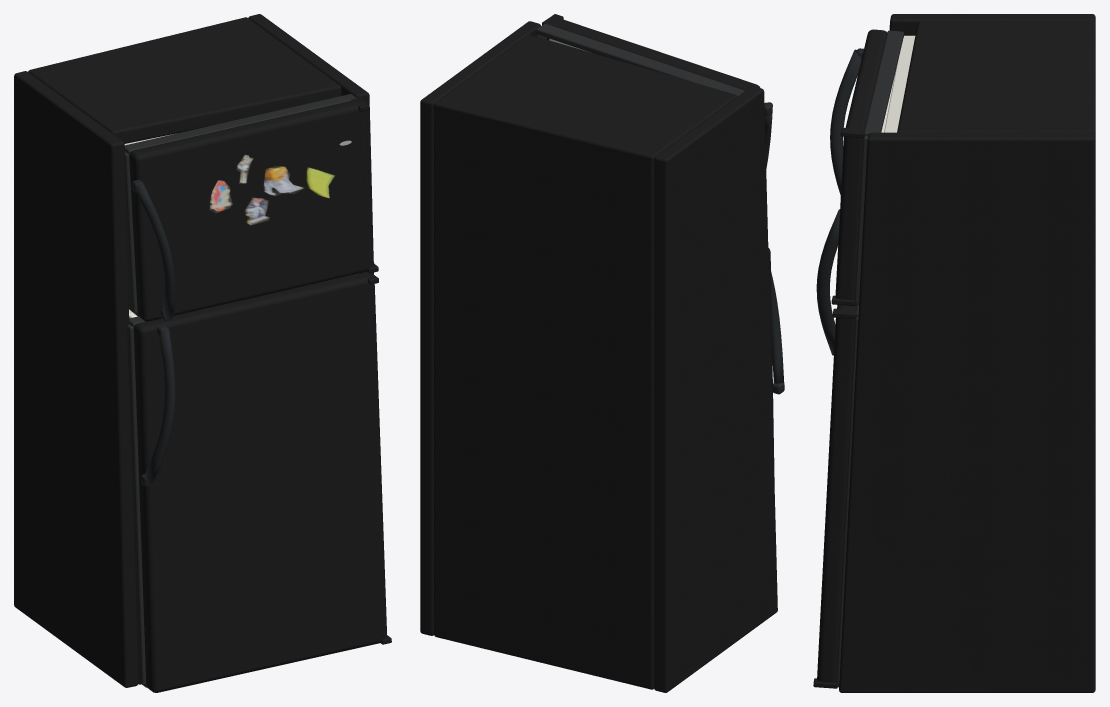
The picture shows the model from 3 angles, left to right: view 1: azimuth 30°, elevation 25°; view 2: azimuth 150°, elevation 25°; view 3: azimuth 270°, elevation 25°; orthographic projection. The views are drawn at different scales.
Visible parts, largest first — view 1: main_outer_skin, shell_left, freezer_outer_skin, shell_top, magnet_decals, main_gasket_side, shell_right, freezer_gasket_cross.001, main_bow_handle, freezer_bow_handle, shell_back, freezer_gasket_side; view 2: shell_back, shell_left, shell_top, shell_right, freezer_gasket_cross.001, freezer_outer_skin, main_bow_handle; view 3: shell_right, shell_top, main_outer_skin, freezer_outer_skin, freezer_gasket_cross.001, shell_left, freezer_bow_handle, shell_back, main_bow_handle, main_gasket_side.001, liner_ceiling, freezer_gasket_side.001.
Part boxes in pixels (<box>): main_outer_skin: <box>133,273,387,692</box>; shell_left: <box>14,71,138,687</box>; freezer_outer_skin: <box>129,100,373,321</box>; shell_top: <box>34,21,341,143</box>; magnet_decals: <box>209,154,335,225</box>; main_gasket_side: <box>126,324,146,684</box>; shell_right: <box>248,14,373,274</box>; freezer_gasket_cross.001: <box>124,94,356,154</box>; main_bow_handle: <box>145,330,175,486</box>; freezer_bow_handle: <box>135,184,174,320</box>; shell_back: <box>28,17,252,75</box>; freezer_gasket_side: <box>124,151,137,313</box>; shell_back: <box>434,98,662,689</box>; shell_left: <box>654,86,777,692</box>; shell_top: <box>442,35,737,152</box>; shell_right: <box>420,21,540,635</box>; freezer_gasket_cross.001: <box>536,23,745,96</box>; freezer_outer_skin: <box>547,18,760,90</box>; main_bow_handle: <box>771,271,784,383</box>; shell_right: <box>839,132,1095,692</box>; shell_top: <box>897,21,1080,132</box>; main_outer_skin: <box>817,305,856,682</box>; freezer_outer_skin: <box>835,29,887,300</box>; freezer_gasket_cross.001: <box>864,30,903,136</box>; shell_left: <box>889,14,1095,35</box>; freezer_bow_handle: <box>830,49,861,195</box>; shell_back: <box>1080,21,1095,134</box>; main_bow_handle: <box>816,209,839,355</box>; main_gasket_side.001: <box>836,316,858,685</box>; liner_ceiling: <box>884,36,915,132</box>; freezer_gasket_side.001: <box>854,136,868,302</box>.
Bounding box in the file's own units: 0.9 × 1.86 × 0.854.
15 materials, 4 textured.
